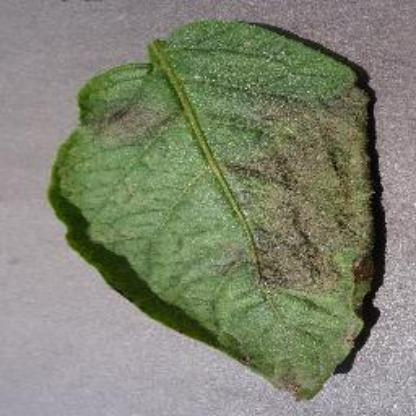Late-Blight: (26, 13, 398, 409)
